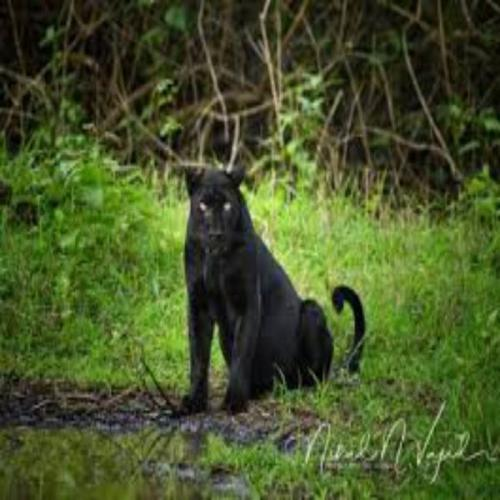panther-endangered: (179, 167, 365, 416)
